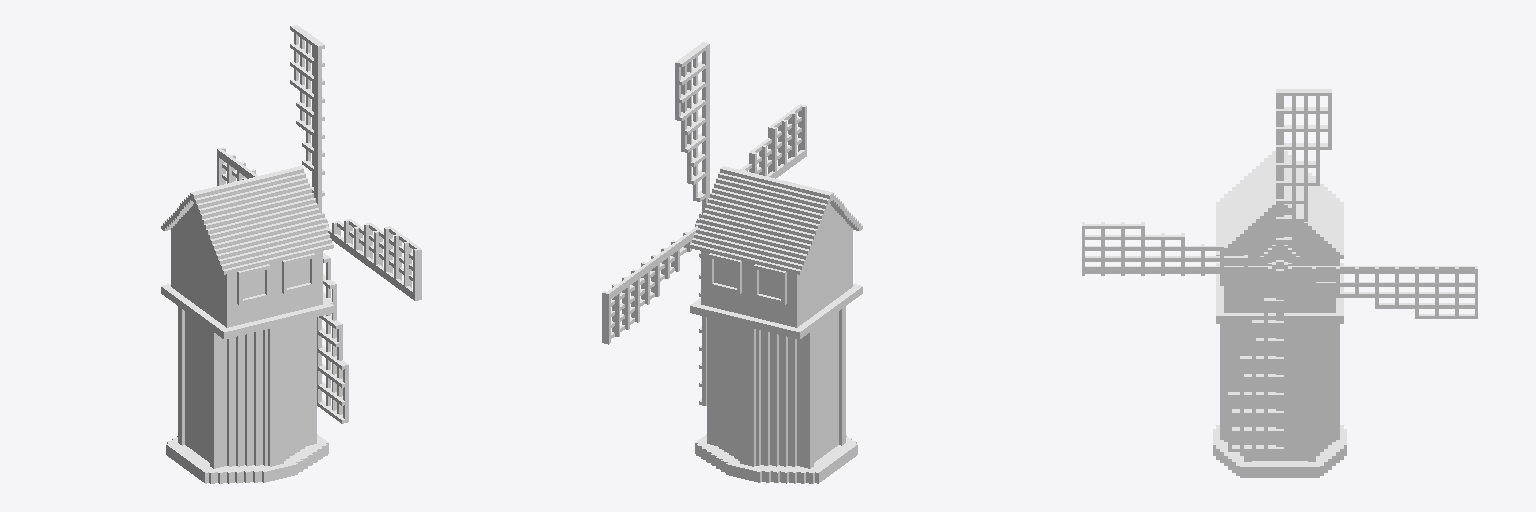
Rendered from Windmill.obj.
3 views of the same model, side by side, from view 1: azimuth 30°, elevation 25°; view 2: azimuth 150°, elevation 25°; view 3: azimuth 270°, elevation 25° (orthographic).
Visible parts, largest first — view 1: Windmill; view 2: Windmill; view 3: Windmill.
Boxes of the visible parts, box(x1,y1,x2,y2) form: Windmill: box(161, 25, 421, 483); Windmill: box(602, 42, 862, 483); Windmill: box(1082, 89, 1477, 477).
Bounding box in the file's own units: 41 × 109 × 100.